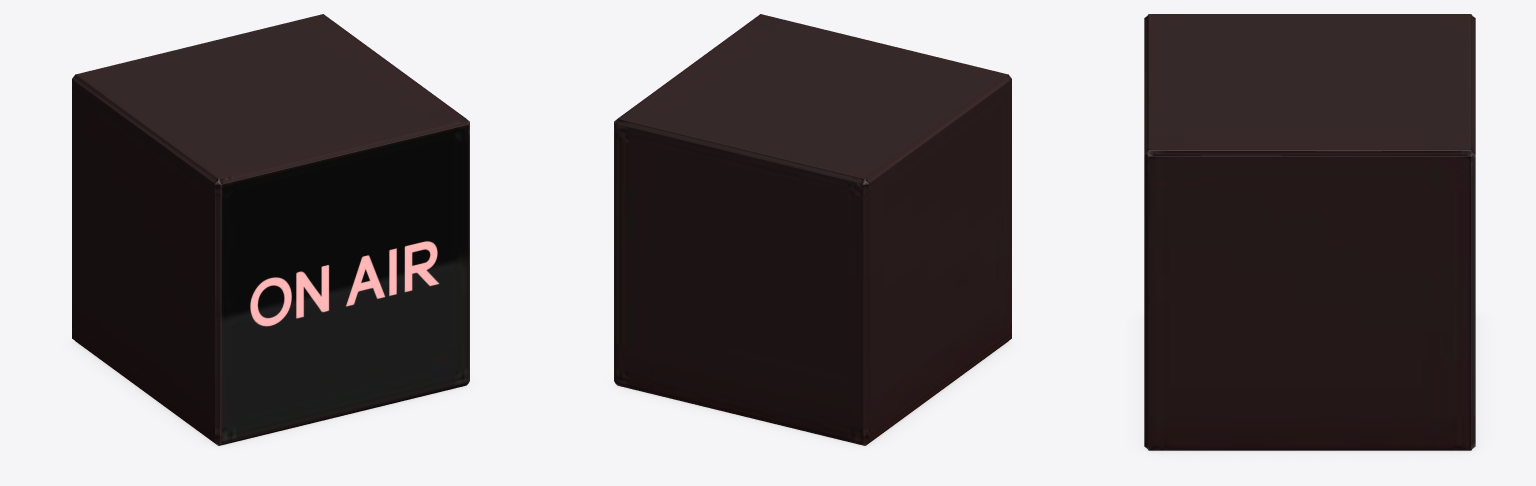
File: on-air-cube.glb
The picture shows the model from 3 angles, left to right: view 1: azimuth 30°, elevation 25°; view 2: azimuth 150°, elevation 25°; view 3: azimuth 270°, elevation 25°; orthographic projection. The views are drawn at different scales.
Visible parts, largest first — view 1: On Air Cube, text, Shadow; view 2: On Air Cube, Shadow; view 3: On Air Cube, Shadow.
Boxes of the visible parts, x1=… form: On Air Cube: x1=72, y1=14, x2=469, y2=445; text: x1=250, y1=241, x2=439, y2=326; Shadow: x1=70, y1=339, x2=471, y2=448; On Air Cube: x1=614, y1=14, x2=1011, y2=445; Shadow: x1=612, y1=339, x2=1013, y2=448; On Air Cube: x1=1144, y1=14, x2=1475, y2=450; Shadow: x1=1135, y1=314, x2=1484, y2=455.
Size of the model in its own units: 1.28 by 1 by 1.28.
Materials: 3 (3 with a texture image).
